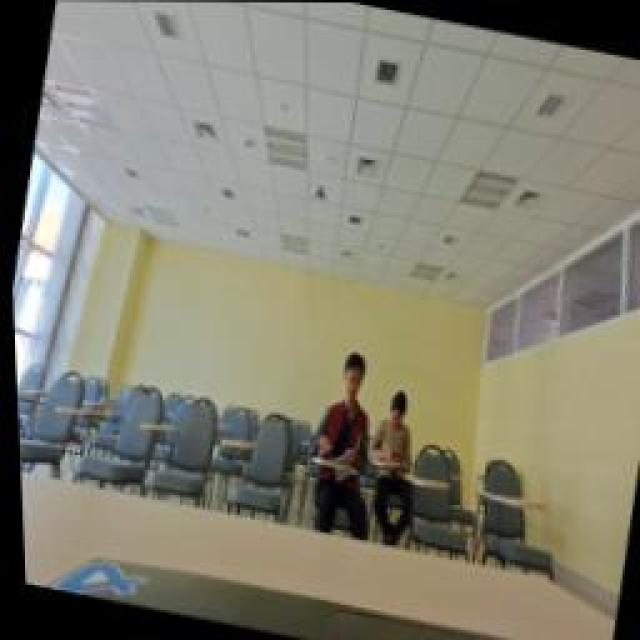phone: (360, 388, 422, 472)
study: (297, 345, 385, 473)
